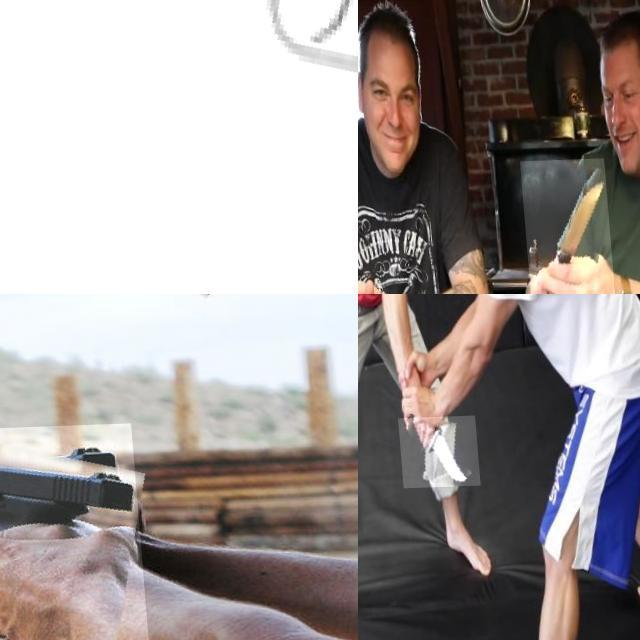-: (515, 161, 609, 294), (392, 418, 473, 491)
gun-knife-thesis - v11 Yolov5 augmented: (0, 0, 358, 294), (0, 425, 151, 640)
